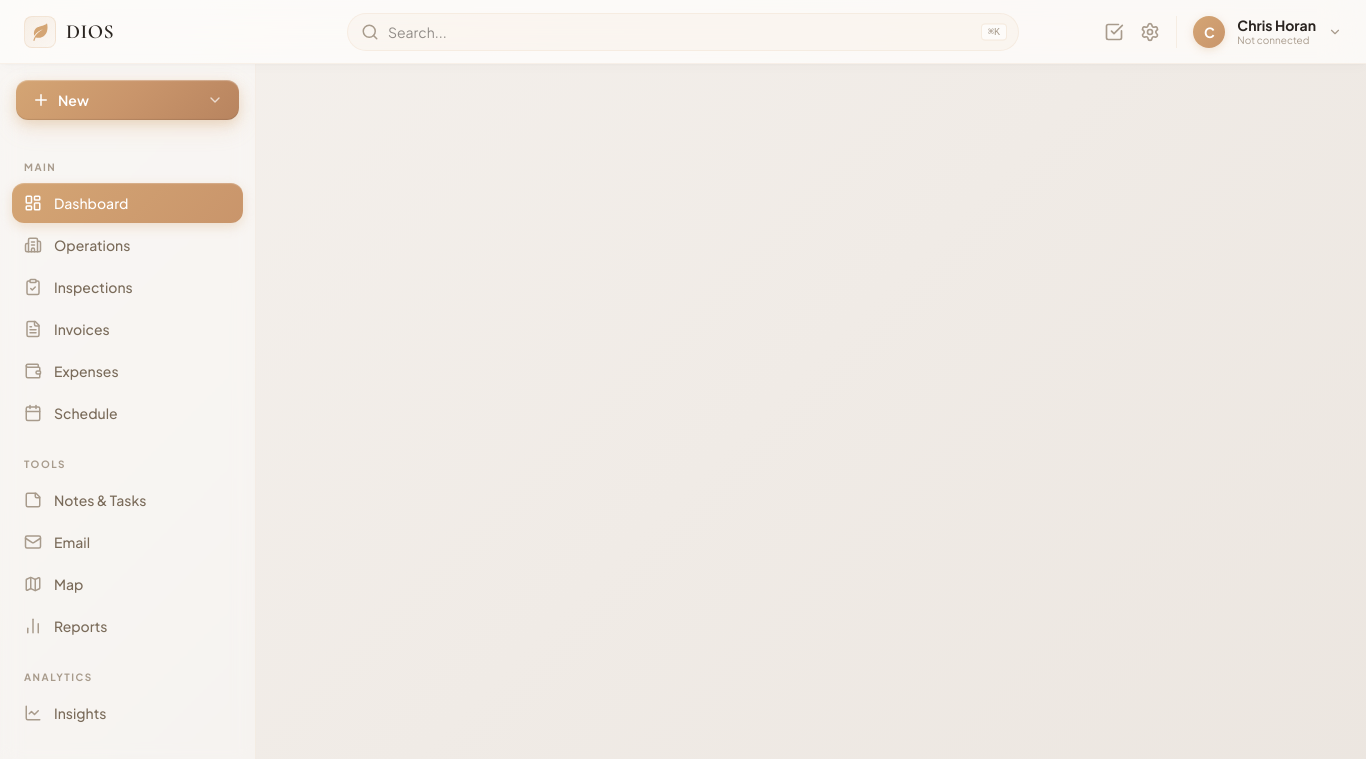
Scenario: Layout › opens command palette when search input is clicked
Click the field with placeholder "Search...".
click(683, 32)  # box [347, 12, 1019, 50]
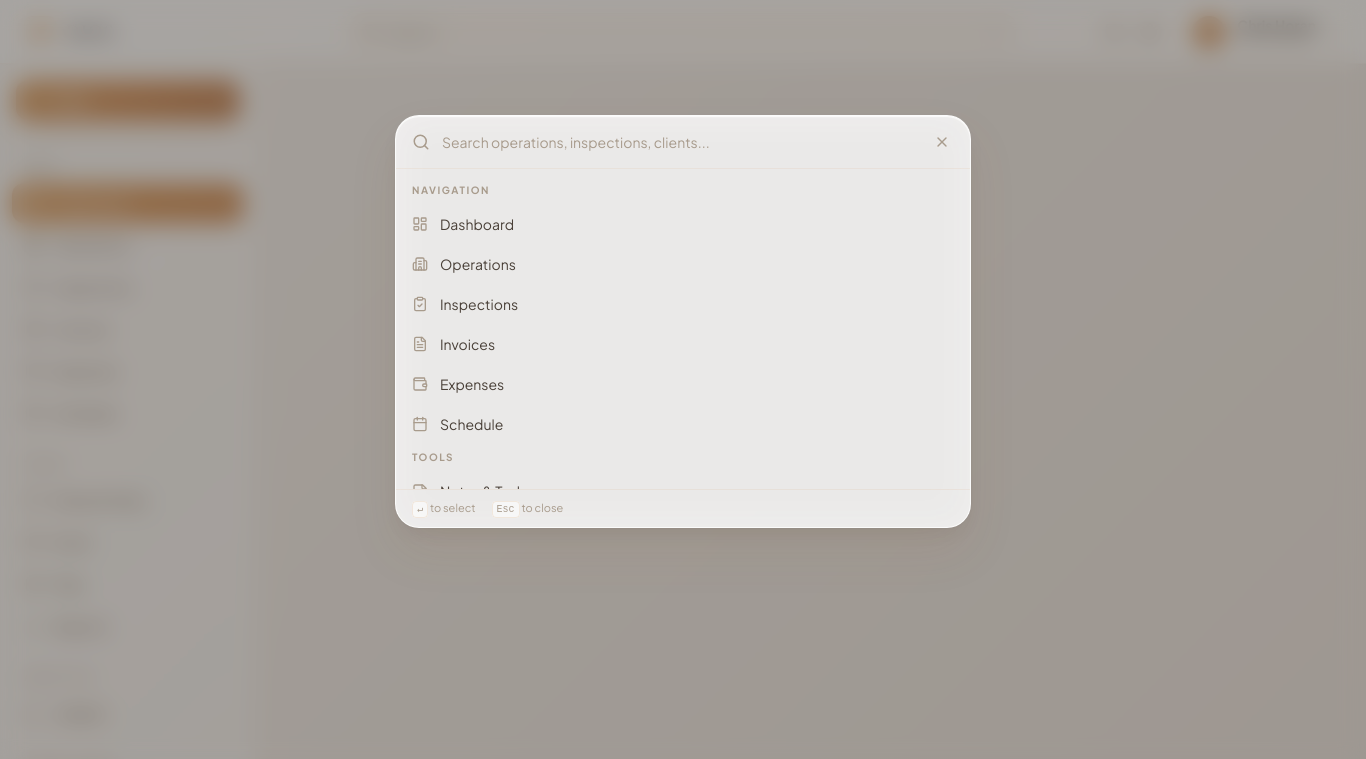
Expected: the field with placeholder "Search operations, inspections, clients..." is shown, [442, 132, 918, 152]
